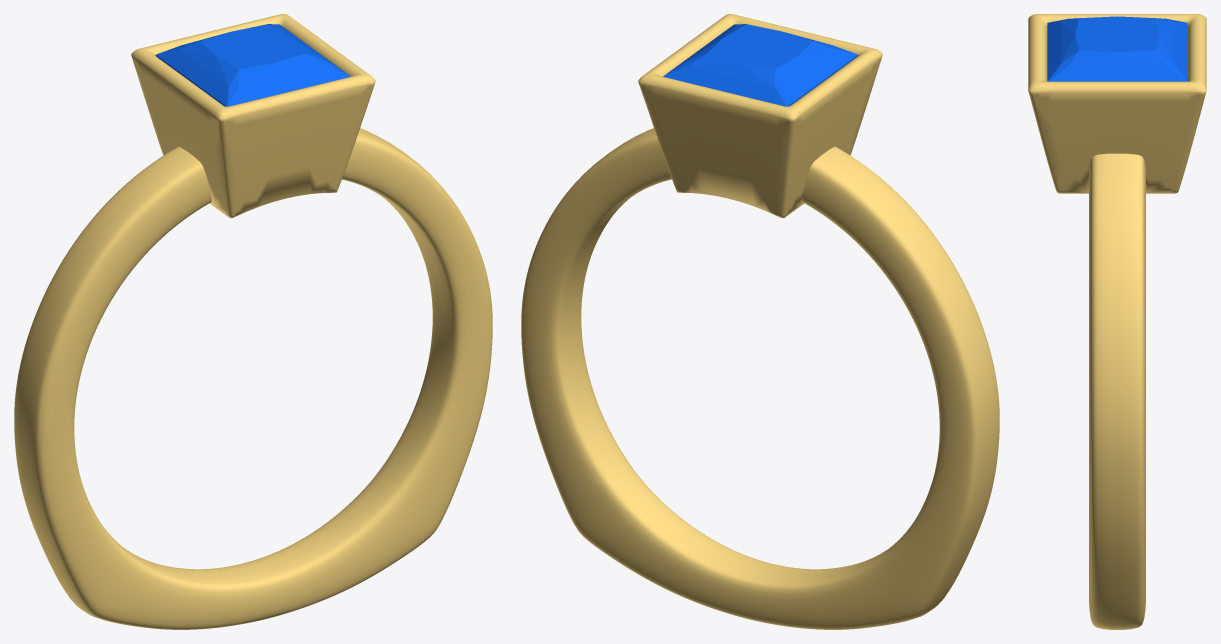
File: bluesapphire-princess-yellowgold-bezelset-europeanshank-solitaire.glb
The picture shows the model from 3 angles, left to right: view 1: azimuth 30°, elevation 25°; view 2: azimuth 150°, elevation 25°; view 3: azimuth 270°, elevation 25°; orthographic projection.
Parts seen in each view (by area): view 1: metal, stone; view 2: metal, stone; view 3: metal, stone.
Boxes of the visible parts, x1,y1,x2,y2 form: metal: (14, 14, 492, 629); stone: (155, 24, 350, 106); metal: (521, 14, 999, 629); stone: (663, 24, 858, 106); metal: (1028, 14, 1206, 629); stone: (1047, 16, 1187, 81).
Bounding box in the file's own units: 20.11 × 23.65 × 6.89.
